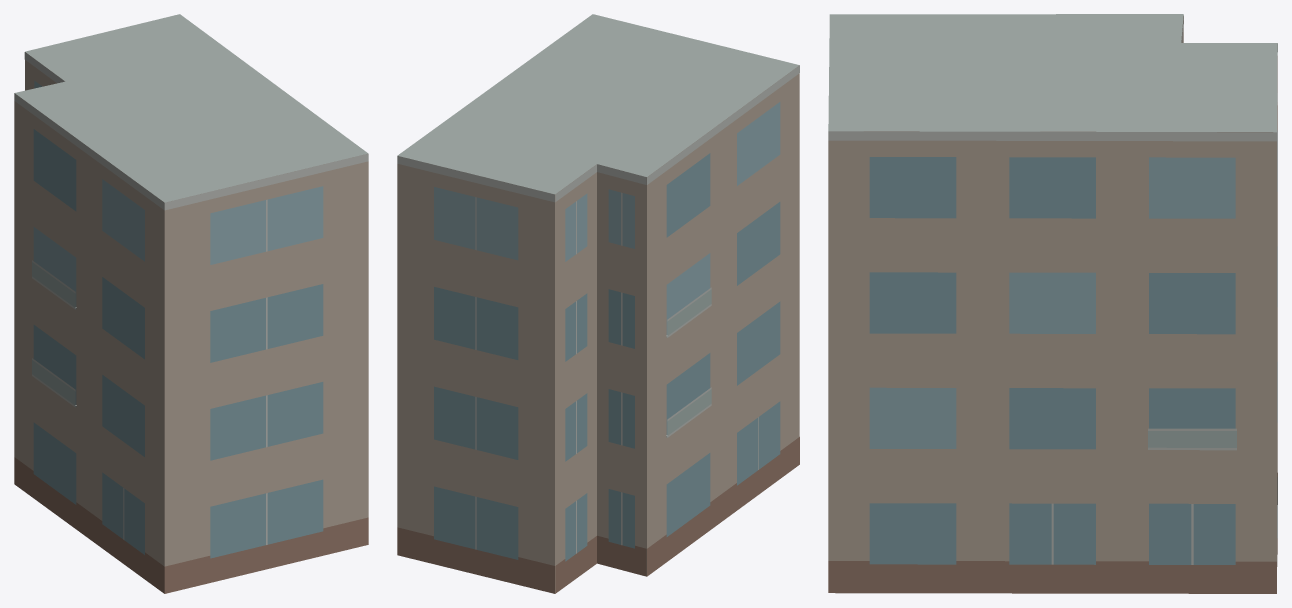
Rendered from survey-upis-32794543.glb.
3 views of the same model, side by side, from view 1: azimuth 30°, elevation 25°; view 2: azimuth 150°, elevation 25°; view 3: azimuth 270°, elevation 25° (orthographic). The views are drawn at different scales.
Parts seen in each view (by area): view 1: survey-upis-32794543.tmp; view 2: survey-upis-32794543.tmp; view 3: survey-upis-32794543.tmp.
Part boxes in pixels (x1=…): survey-upis-32794543.tmp: x1=14, y1=14, x2=368, y2=593; survey-upis-32794543.tmp: x1=397, y1=14, x2=799, y2=593; survey-upis-32794543.tmp: x1=828, y1=14, x2=1277, y2=593.
Size of the model in its own units: 6.76 by 12.2 by 10.77.
